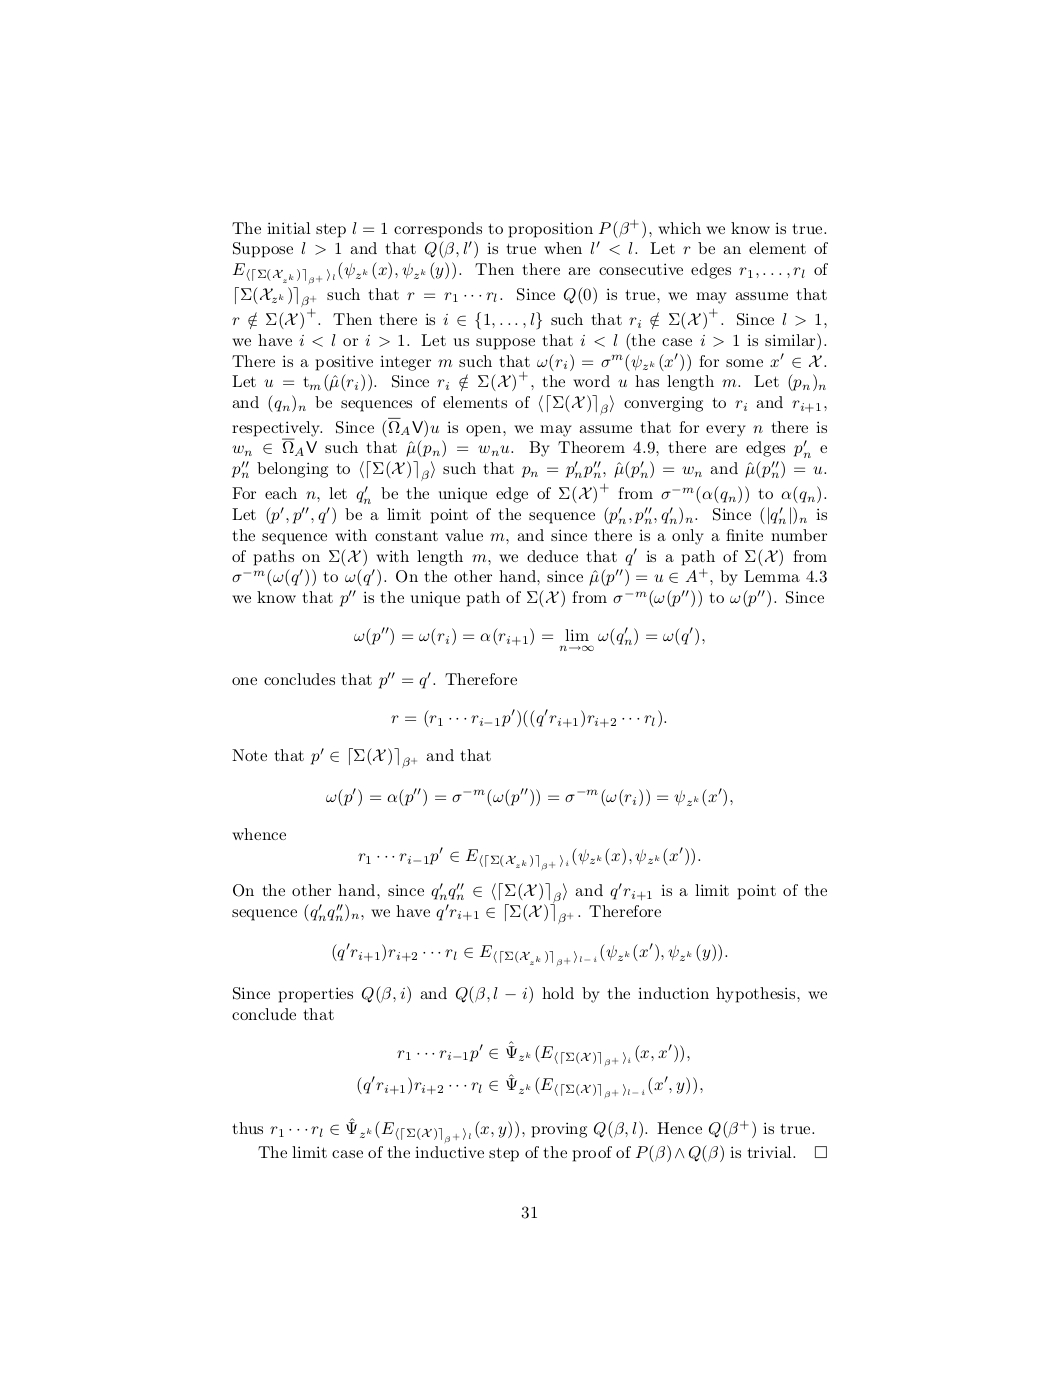formula: (332, 942, 727, 967), (354, 626, 704, 652), (357, 1073, 702, 1099), (358, 846, 700, 871), (327, 787, 732, 807), (397, 1040, 689, 1067), (391, 708, 666, 728)
